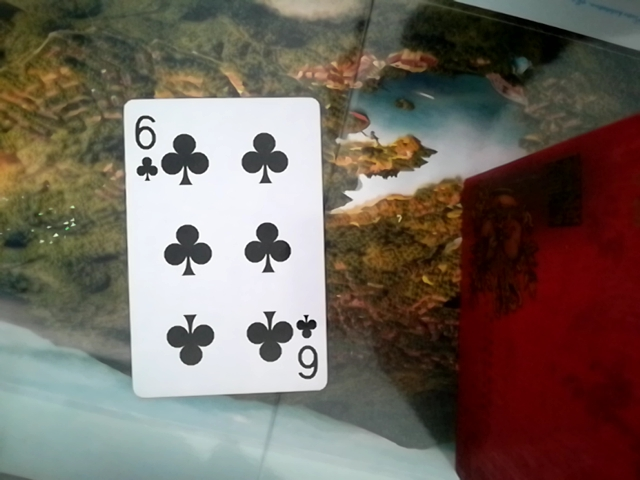mh 6: (123, 96, 328, 397)
